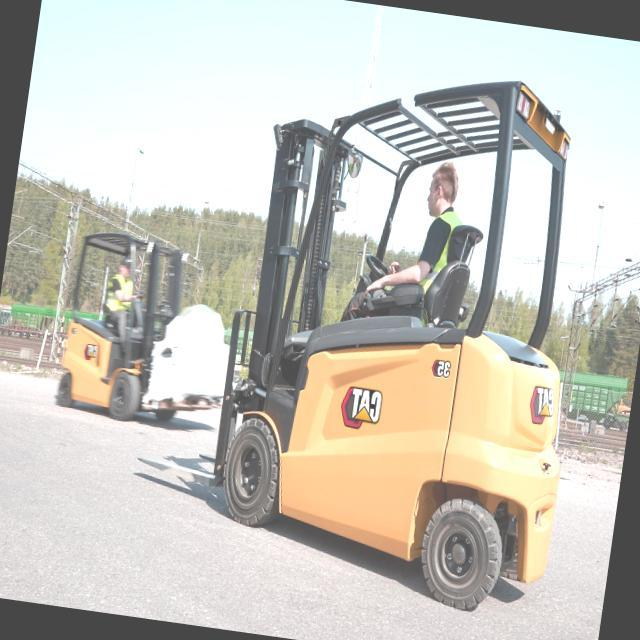driver: (350, 144, 480, 336)
forklift: (185, 35, 628, 627)
